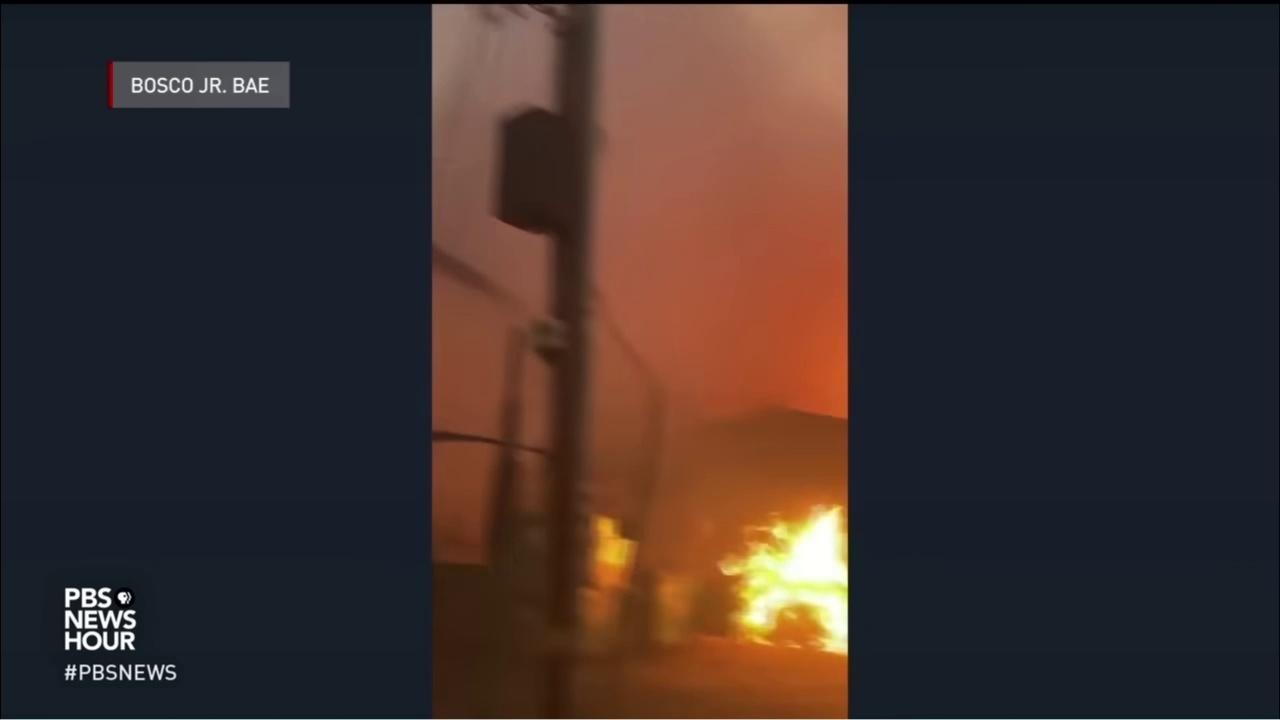fire: (713, 501, 848, 657)
smoke: (433, 5, 848, 716)
